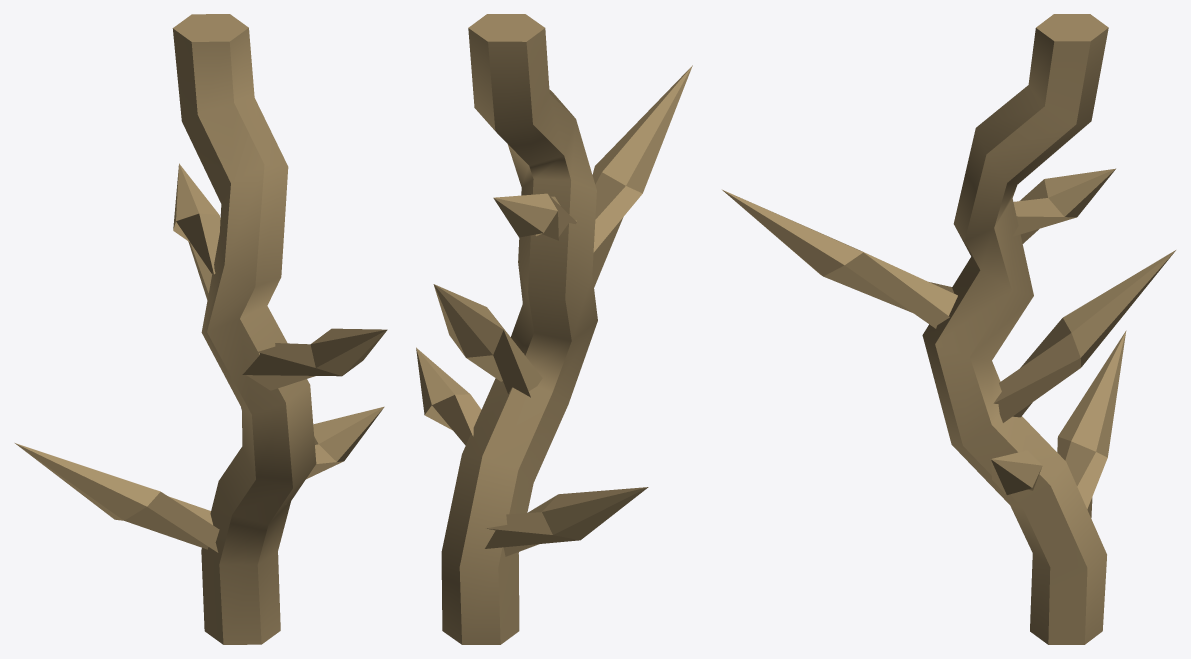
The model's file is Enredaderas muertas medio.fbx.
3 renders of one model, left to right at view 1: azimuth 30°, elevation 25°; view 2: azimuth 150°, elevation 25°; view 3: azimuth 270°, elevation 25°, orthographic. The views are drawn at different scales.
Parts seen in each view (by area): view 1: pCylinder20; view 2: pCylinder20; view 3: pCylinder20.
Boxes of the visible parts, x1,y1,x2,y2 form: pCylinder20: (15,14,387,644); pCylinder20: (416,14,692,644); pCylinder20: (722,14,1175,644).
Bounding box in the file's own units: 9.06 × 17.48 × 12.23.
